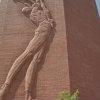Statue: (14, 3, 58, 96)
